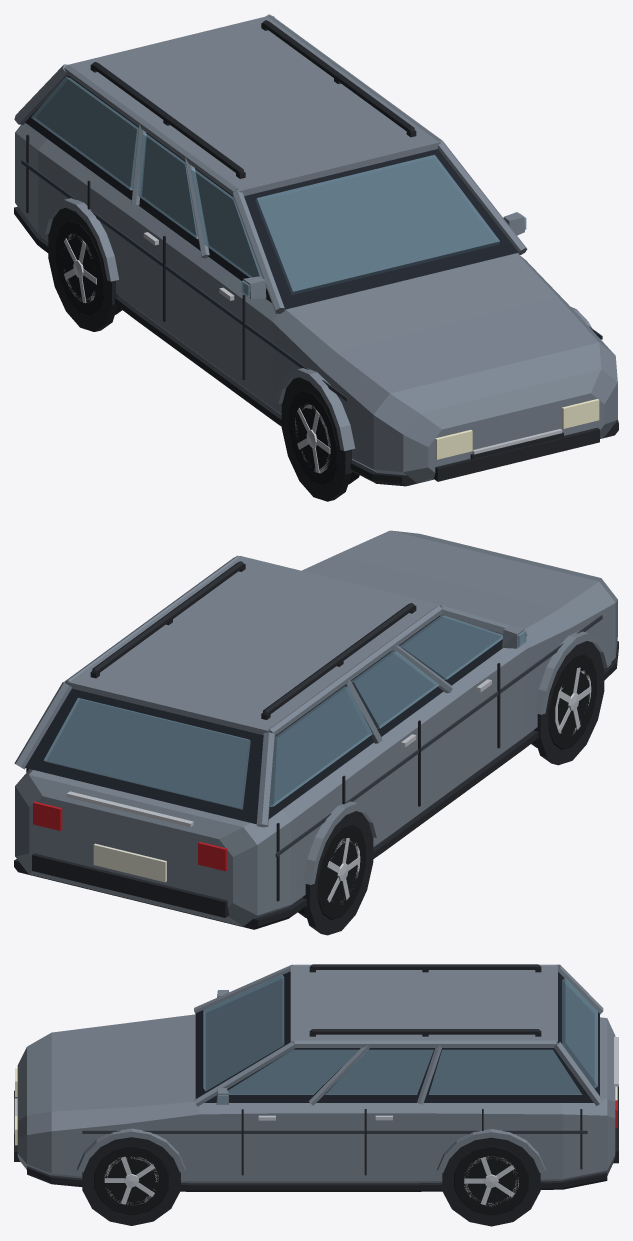
File: CAR_06.obj
3 views of the same model, one above another, from view 1: azimuth 30°, elevation 25°; view 2: azimuth 150°, elevation 25°; view 3: azimuth 270°, elevation 25° (orthographic). The views are drawn at different scales.
Visible parts, largest first — view 1: cabin, body, glass, wheel_FL_arch, wheel_RL_arch, wheel_FL, wheel_RL, fascia, roof_rails, body_detail, lights, mirrors; view 2: cabin, body, glass, fascia, wheel_RL_arch, wheel_FL_arch, wheel_RL, wheel_FL, roof_rails, body_detail, lights, tailgate; view 3: body, cabin, glass, wheel_FR, wheel_RR, wheel_FR_arch, wheel_RR_arch, roof_rails, body_detail, fascia.
Boxes of the visible parts, x1,y1,x2,y2 form: cabin: (14, 14, 527, 313); body: (14, 123, 618, 486); glass: (31, 77, 499, 294); wheel_FL_arch: (274, 368, 355, 501); wheel_RL_arch: (41, 198, 119, 331); wheel_FL: (289, 390, 359, 486); wheel_RL: (55, 220, 122, 316); fascia: (433, 427, 599, 481); roof_rails: (90, 20, 416, 178); body_detail: (21, 134, 602, 401); lights: (435, 399, 599, 459); mirrors: (241, 212, 526, 298); cabin: (14, 555, 527, 827); body: (14, 530, 618, 929); glass: (44, 615, 502, 809); fascia: (32, 843, 229, 917); wheel_RL_arch: (302, 801, 380, 935); wheel_FL_arch: (534, 630, 611, 765); wheel_RL: (298, 823, 365, 919); wheel_FL: (531, 653, 596, 749); roof_rails: (90, 561, 416, 719); body_detail: (26, 615, 602, 901); lights: (33, 801, 227, 871); tailgate: (66, 791, 193, 827); body: (17, 1014, 615, 1191); cabin: (194, 964, 603, 1106); glass: (203, 974, 597, 1094); wheel_FR: (94, 1145, 168, 1214); wheel_RR: (454, 1146, 528, 1215); wheel_FR_arch: (77, 1128, 185, 1225); wheel_RR_arch: (437, 1129, 545, 1226); roof_rails: (309, 964, 541, 1036); body_detail: (82, 1109, 587, 1175); fascia: (14, 1086, 618, 1163).
Size of the model in its own units: 2.02 by 1.62 by 4.91.
